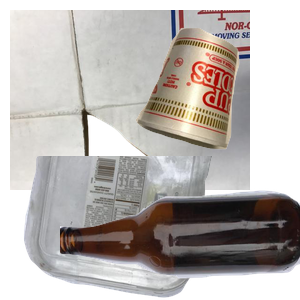cardboard: (10, 10, 250, 190)
glass: (60, 188, 300, 300)
plastic: (21, 156, 226, 300)
trash: (133, 25, 300, 167)
